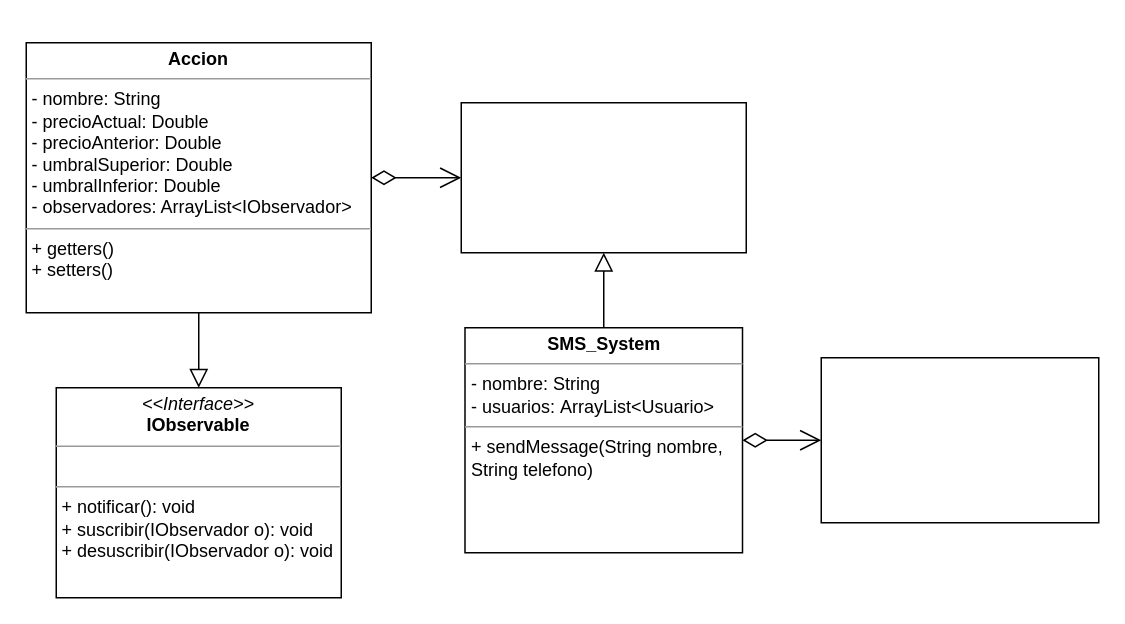
This 1125x624 diagram has some shape labels left out. Here are the shapes that lost their labels. From the top down, the box of each, then its label:
(460, 101, 746, 253): <<Interface>> IObservador + actualizar(): void
(820, 356, 1099, 523): Usuario - nombre: String - telefono: String + getters() + setters()
